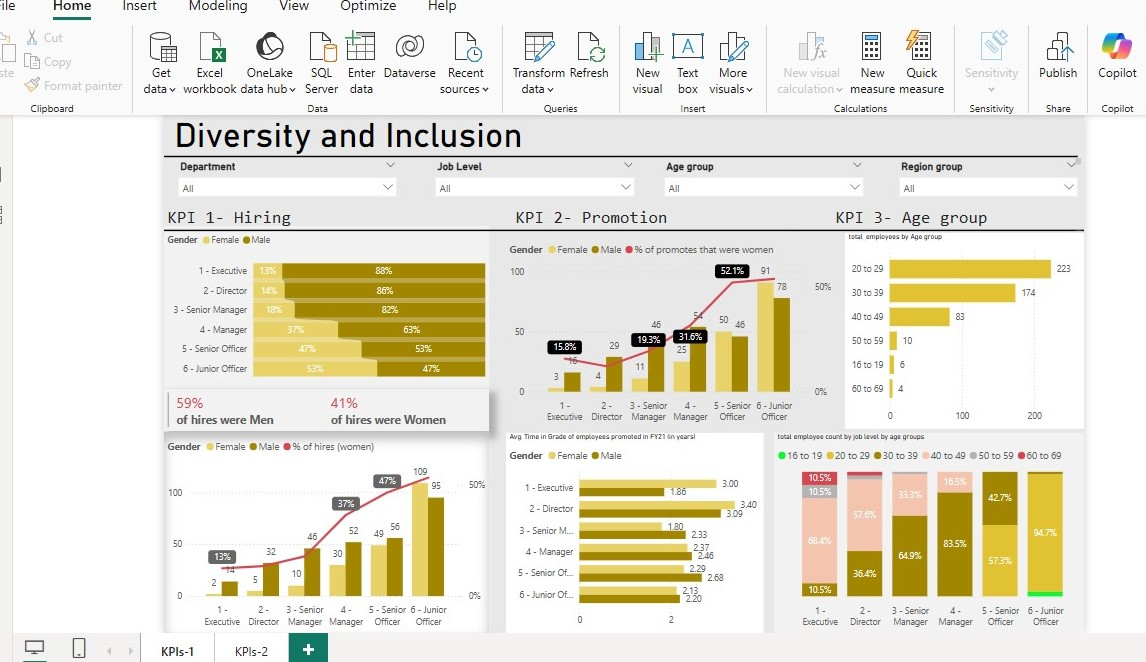

Layout of this report page (visuals, bound fields, positions):
{"tool":"powerbi","page":{"name":"KPIs-1","canvas":[1280,720],"ordinal":0},"visuals":[{"type":"textbox","title":"Diversity and Inclusion","box":[9.7,0,1270.4,73.7],"z":0},{"type":"shape","box":[0,37.5,1270.4,40.3],"z":1000},{"type":"slicer","fields":{"Values":["Pharma Group AG.Last Department in FY20"]},"box":[9.7,58.4,323.9,63.9],"z":2000},{"type":"slicer","fields":{"Values":["Pharma Group AG.Job Level after FY20 promotions"]},"box":[366.9,58.4,297.5,63.9],"z":3000},{"type":"slicer","fields":{"Values":["Pharma Group AG.Age group"]},"box":[685.3,58.4,297.5,63.9],"z":4000},{"type":"slicer","fields":{"Values":["Pharma Group AG.Broad region group: nationality 1"]},"box":[1011.9,58.4,268.3,63.9],"z":5000},{"type":"textbox","title":"KPI 1- Hiring","box":[0,128.5,208,32.1],"z":6000},{"type":"hundredPercentStackedBarChart","fields":{"Category":["Pharma Group AG.Job Level after FY20 promotions"],"Series":["Pharma Group AG.Gender"],"Y":["baseMeasures.total_employees"]},"box":[0,155,451.5,225.8],"z":7000},{"type":"multiRowCard","fields":{"Values":["baseMeasures.% of hires (men)","baseMeasures.% of hires (women)"]},"box":[0,380.7,451.5,59.3],"z":8000},{"type":"lineClusteredColumnComboChart","fields":{"Y2":["baseMeasures.% of hires (women)"],"Y":["baseMeasures.total_employees"],"Category":["Pharma Group AG.Job Level after FY20 promotions"],"Series":["Pharma Group AG.Gender"]},"box":[0,440.1,451.5,279.3],"z":9000},{"type":"textbox","title":"KPI 2- Promotion","box":[483.2,128.5,402.2,38.2],"z":10000},{"type":"shape","box":[0,154.5,1280,12.2],"z":11000},{"type":"lineClusteredColumnComboChart","fields":{"Y":["baseMeasures.total_employees"],"Series":["Pharma Group AG.Gender"],"Category":["Pharma Group AG.Job Level after FY21 promotions"],"Y2":["baseMeasures.% women promoted(FY21)"]},"box":[475.6,166.7,457.3,269.2],"z":12000},{"type":"clusteredBarChart","title":"Avg. Time in Grade of employees promoted in FY21 (in years)","fields":{"Series":["Pharma Group AG.Gender"],"Category":["Pharma Group AG.Job Level after FY20 promotions"],"Y":["Avg(Pharma Group AG.Time in Job Level @01.07.2020)"]},"box":[475.6,442,357.8,278.3],"z":13000},{"type":"textbox","title":"KPI 3- Age group","box":[928.3,128.5,351.7,38.2],"z":14000},{"type":"clusteredBarChart","fields":{"Category":["Pharma Group AG.Age group"],"Y":["baseMeasures.total_employees"]},"box":[946.6,163.6,333.4,272.2],"z":15000},{"type":"hundredPercentStackedColumnChart","title":"total employee count by job level by age groups","fields":{"Y":["baseMeasures.total_employees"],"Series":["Pharma Group AG.Age group"],"Category":["Pharma Group AG.Job Level after FY21 promotions"]},"box":[847.2,442,432.8,278.3],"z":16000}]}

Visuals, with their boxes on the page's 1280x720 design canvas (x1, y1, x2, y2). These are canvas units, not pixel positions in the 1146x662 screenshot, which may show the page scaled, cropped or inside an application window:
"Diversity and Inclusion" textbox: (10,0,1280,74)
shape: (0,38,1270,78)
slicer - Pharma Group AG.Last Department in FY20: (10,58,334,122)
slicer - Pharma Group AG.Job Level after FY20 promotions: (367,58,664,122)
slicer - Pharma Group AG.Age group: (685,58,983,122)
slicer - Pharma Group AG.Broad region group: nationality 1: (1012,58,1280,122)
"KPI 1- Hiring" textbox: (0,128,208,161)
hundredPercentStackedBarChart - Pharma Group AG.Job Level after FY20 promotions x Pharma Group AG.Gender: (0,155,452,381)
multiRowCard - baseMeasures.% of hires (men) x baseMeasures.% of hires (women): (0,381,452,440)
lineClusteredColumnComboChart - baseMeasures.% of hires (women) x baseMeasures.total_employees: (0,440,452,719)
"KPI 2- Promotion" textbox: (483,128,885,167)
shape: (0,154,1280,167)
lineClusteredColumnComboChart - baseMeasures.total_employees x Pharma Group AG.Gender: (476,167,933,436)
"Avg. Time in Grade of employees promoted in FY21 (in years)" clusteredBarChart: (476,442,833,720)
"KPI 3- Age group" textbox: (928,128,1280,167)
clusteredBarChart - Pharma Group AG.Age group x baseMeasures.total_employees: (947,164,1280,436)
"total employee count by job level by age groups" hundredPercentStackedColumnChart: (847,442,1280,720)
